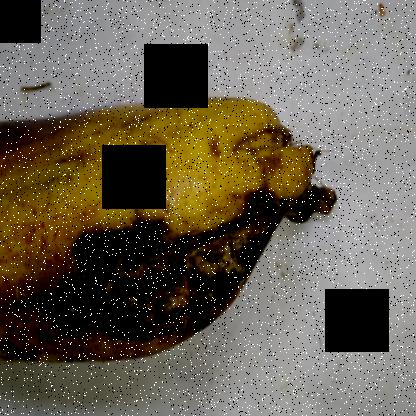ripe: (0, 90, 323, 395)
rotten: (44, 200, 301, 375), (0, 78, 109, 170)
